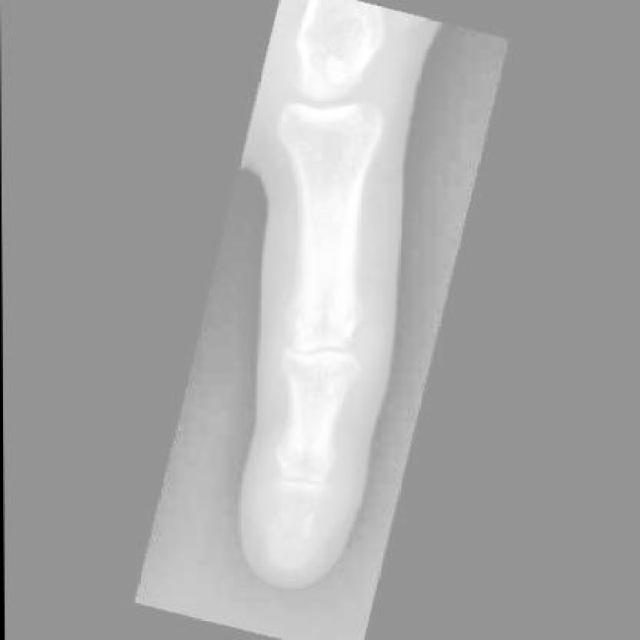Fracture: (243, 499, 333, 588)
